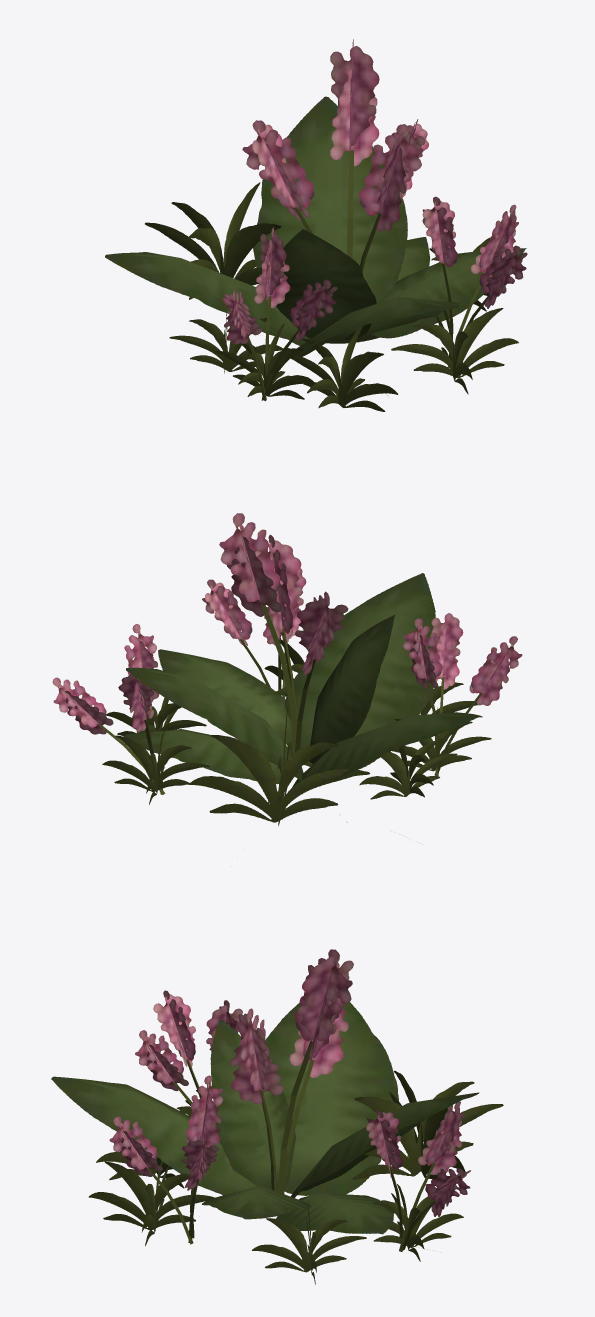
3 views of the same model, one above another, from view 1: azimuth 30°, elevation 25°; view 2: azimuth 150°, elevation 25°; view 3: azimuth 270°, elevation 25° (orthographic). The views are drawn at different scales.
Visible parts, largest first — view 1: body0_model0_lod0_mesh0; view 2: body0_model0_lod0_mesh0; view 3: body0_model0_lod0_mesh0.
Boxes of the visible parts, left/top/right/bottom form: body0_model0_lod0_mesh0: left=105, top=39, right=527, bottom=411; body0_model0_lod0_mesh0: left=52, top=513, right=522, bottom=843; body0_model0_lod0_mesh0: left=51, top=949, right=503, bottom=1284.
Bounding box in the file's own units: 69.28 × 50.5 × 74.08.
1 material, 1 textured.
